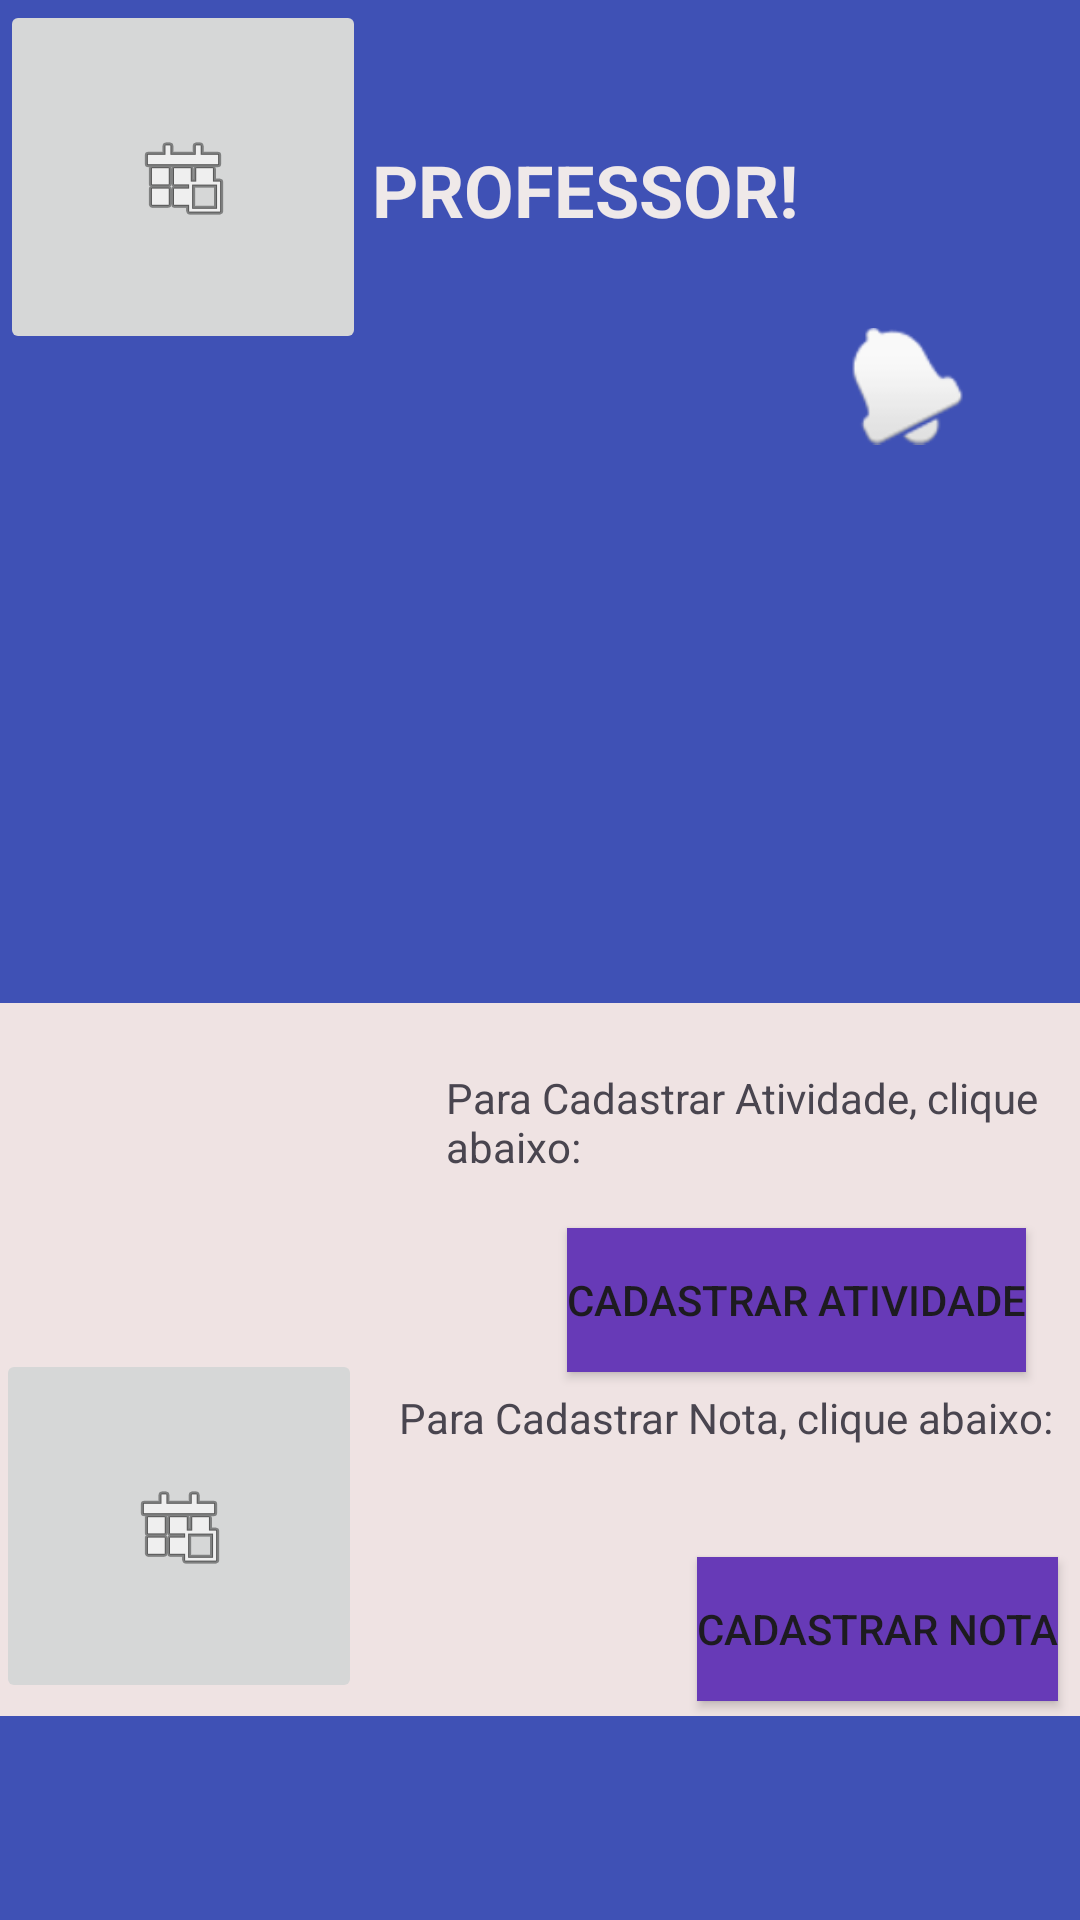

Icon click points for this 1080w x 1920h phone screenshot, format point (x, y):
popup reminder: point (907, 386)
today: point (183, 177), point (179, 1526)
